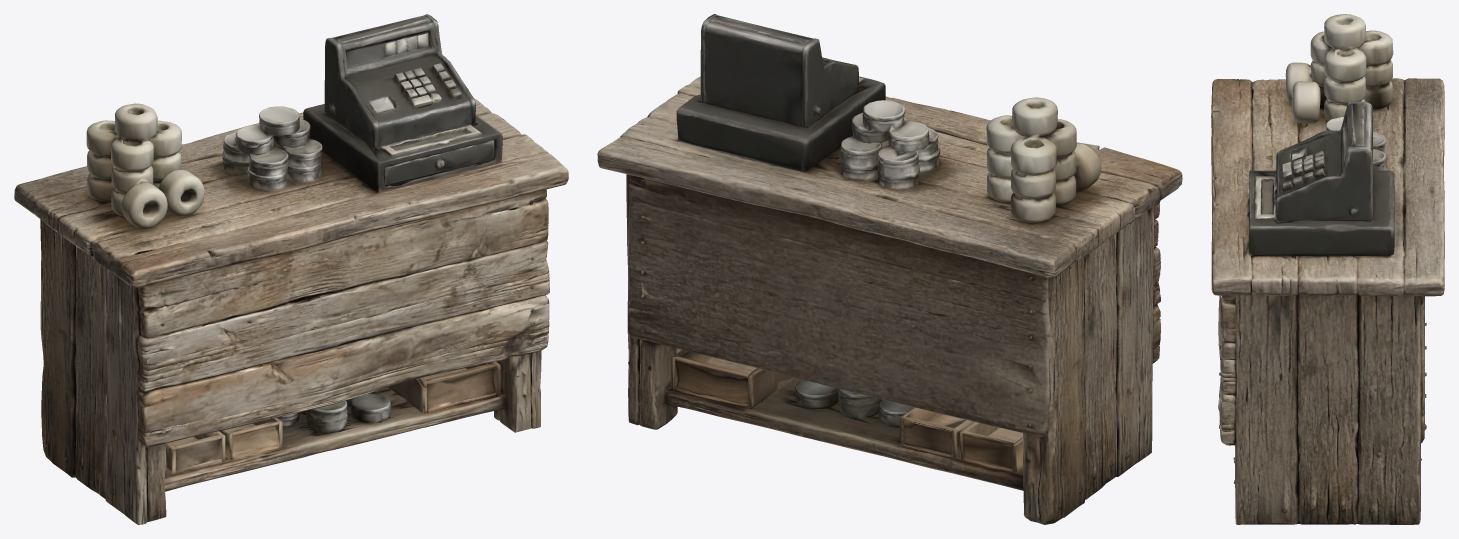
File: CCG_ShopCounter_web.glb
The picture shows the model from 3 angles, left to right: view 1: azimuth 30°, elevation 25°; view 2: azimuth 150°, elevation 25°; view 3: azimuth 270°, elevation 25°; orthographic projection. The views are drawn at different scales.
Parts seen in each view (by area): view 1: tripo_node_795b952e-9b0a-4fb7-83ab-2292a4d76276; view 2: tripo_node_795b952e-9b0a-4fb7-83ab-2292a4d76276; view 3: tripo_node_795b952e-9b0a-4fb7-83ab-2292a4d76276.
Part boxes in pixels (box(x1,y1,x2,y2)): tripo_node_795b952e-9b0a-4fb7-83ab-2292a4d76276: box(14, 14, 568, 524); tripo_node_795b952e-9b0a-4fb7-83ab-2292a4d76276: box(597, 14, 1182, 524); tripo_node_795b952e-9b0a-4fb7-83ab-2292a4d76276: box(1211, 14, 1444, 524).
Bounding box in the file's own units: 0.9798 × 0.8001 × 0.4745.
1 material, 1 textured.
